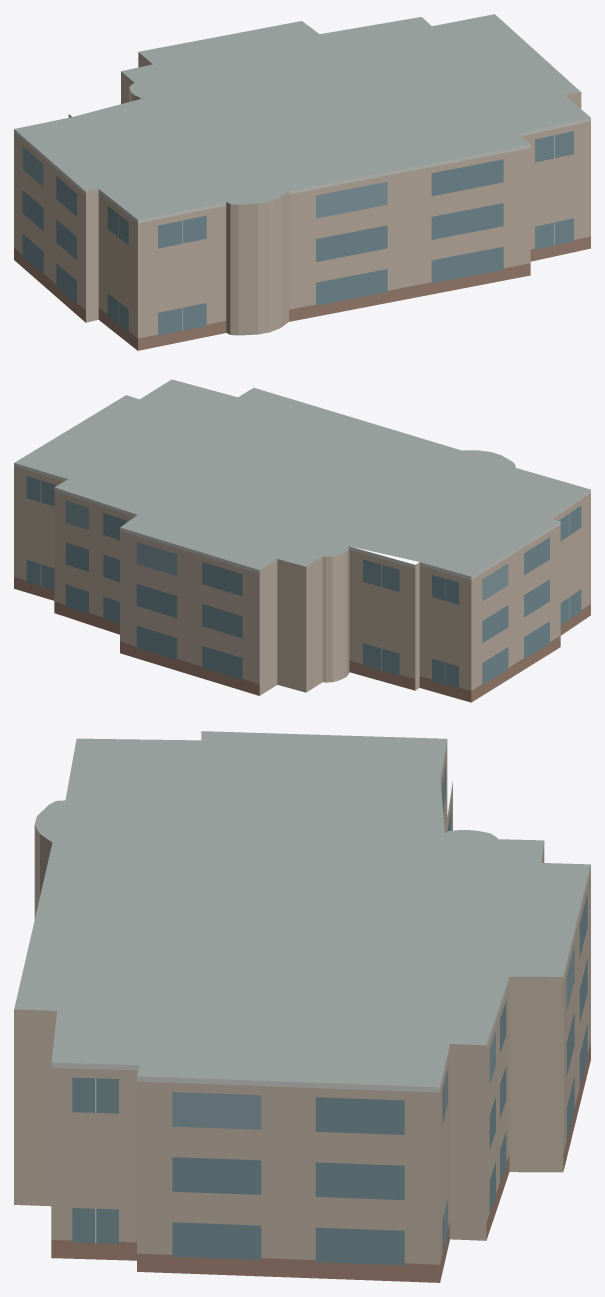
Rendered from survey-upis-32939347.glb.
3 views of the same model, one above another, from view 1: azimuth 30°, elevation 25°; view 2: azimuth 150°, elevation 25°; view 3: azimuth 270°, elevation 25° (orthographic). The views are drawn at different scales.
Visible parts, largest first — view 1: survey-upis-32939347.tmp; view 2: survey-upis-32939347.tmp; view 3: survey-upis-32939347.tmp.
Part boxes in pixels (left/top/right/bottom): survey-upis-32939347.tmp: left=14, top=14, right=590, bottom=350; survey-upis-32939347.tmp: left=14, top=379, right=590, bottom=702; survey-upis-32939347.tmp: left=14, top=731, right=590, bottom=1282.
Size of the model in its own units: 35.77 by 9.15 by 24.48.
